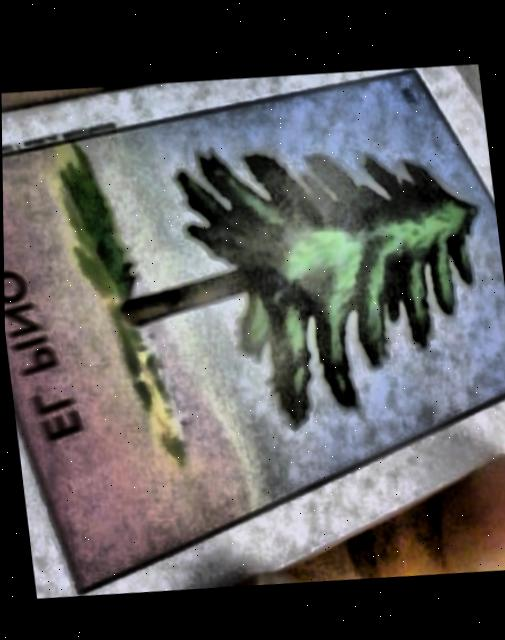El Pino: (2, 65, 505, 595)
